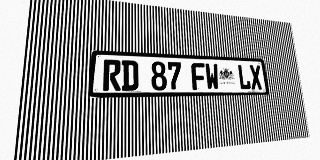7: (166, 62, 182, 90)
8: (151, 61, 167, 90)
D: (121, 60, 138, 91)
F: (191, 63, 206, 90)
L: (237, 64, 251, 90)
R: (103, 59, 121, 91)
W: (205, 63, 220, 90)
X: (249, 65, 263, 90)
